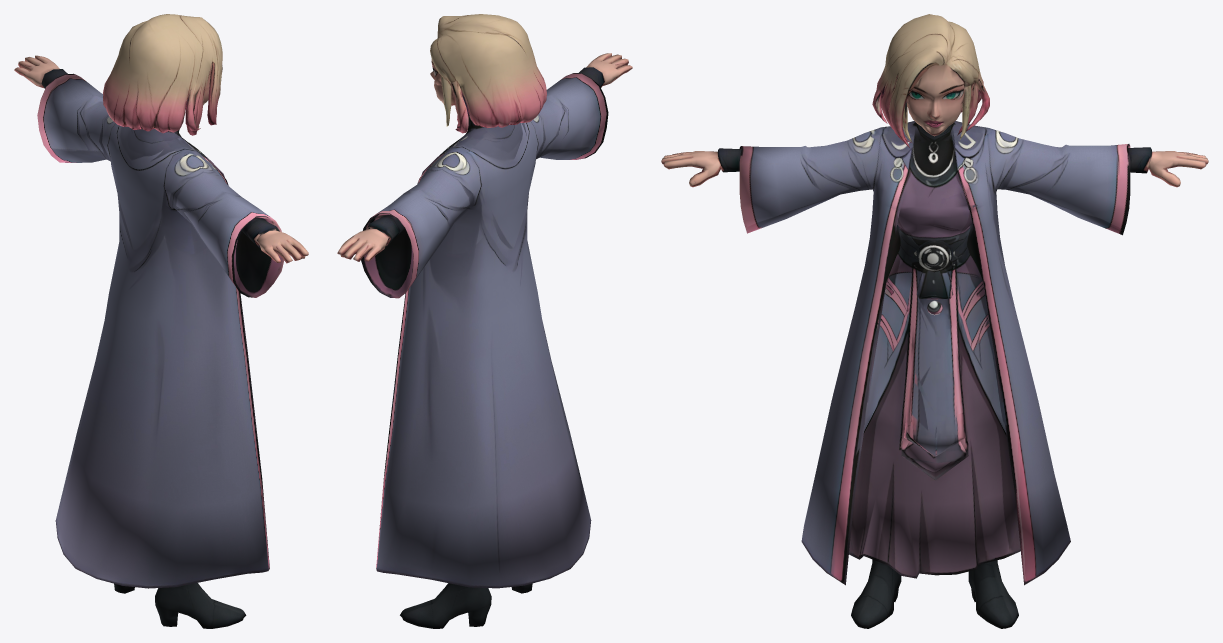
File: selyna.glb
3 renders of one model, left to right at view 1: azimuth 30°, elevation 25°; view 2: azimuth 150°, elevation 25°; view 3: azimuth 270°, elevation 25°, orthographic.
Visible parts, largest first — view 1: tripo_node_b2f51cc1-6440-4b8c-9ca0-8b7916370ee2; view 2: tripo_node_b2f51cc1-6440-4b8c-9ca0-8b7916370ee2; view 3: tripo_node_b2f51cc1-6440-4b8c-9ca0-8b7916370ee2.
Boxes of the visible parts, x1,y1,x2,y2 form: tripo_node_b2f51cc1-6440-4b8c-9ca0-8b7916370ee2: [14, 14, 308, 628]; tripo_node_b2f51cc1-6440-4b8c-9ca0-8b7916370ee2: [337, 14, 632, 628]; tripo_node_b2f51cc1-6440-4b8c-9ca0-8b7916370ee2: [661, 14, 1208, 628].
Size of the model in its own units: 0.2676 by 0.998 by 0.8457.
Materials: 1 (1 with a texture image).
